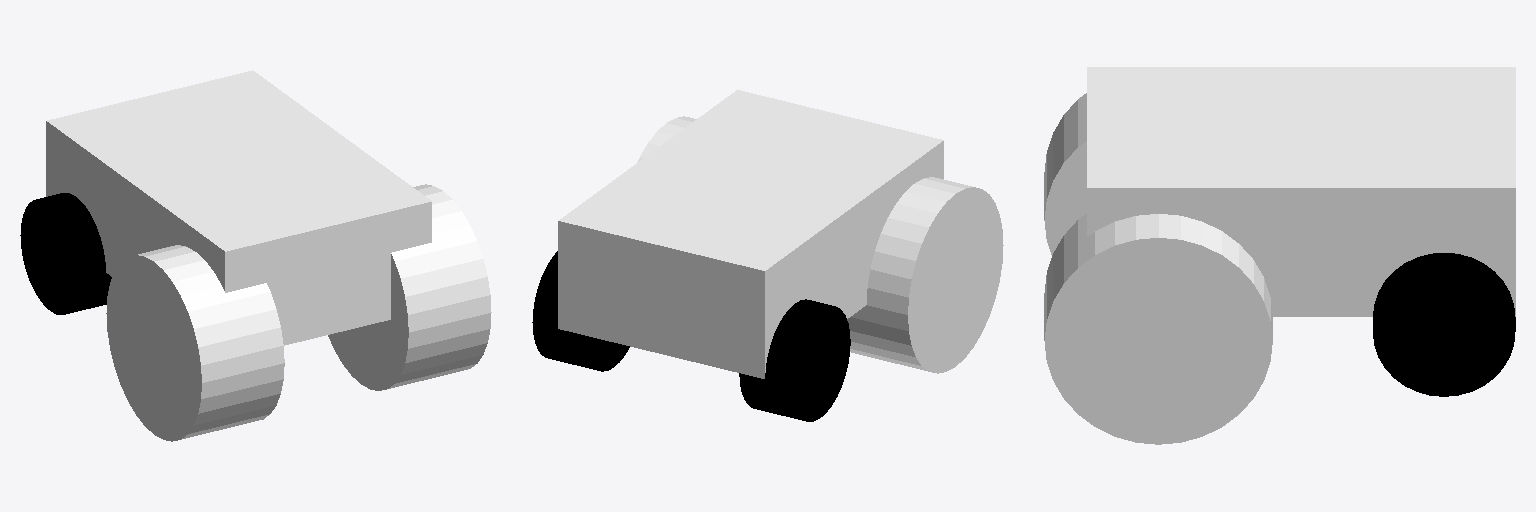
The robot description file, URDF, robot "car":
<!-- 
    需求: 长方体

 -->


<robot name="car">     
    <link name="base_link">
           <visual>
                 <geometry>
                       <box size="0.2 .3 .1"/>
                 </geometry>
            <origin rpy="0 0 0" xyz="0 0 0.05"/>
            <material name="white">
                <color rgba="1 1 1 1"/>
            </material>
           </visual>     
     </link>

     <link name="wheel_1">
           <visual>
                 <geometry>
                       <cylinder length="0.05" radius="0.05"/>
                 </geometry>
            <origin rpy="0 1.57 0" xyz="0.1 0.1 0"/>
               <material name="black">
                <color rgba="0 0 0 1"/>
            </material>
        </visual>
     </link>

     <link name="wheel_2">
           <visual>
                 <geometry>
                       <cylinder length="0.05" radius="0.05"/>
                 </geometry>
            <origin rpy="0 1.57 0" xyz="-0.1 0.1 0"/>
               <material name="black"/>
           </visual>
     </link>

     <link name="wheel_3">
           <visual>
                 <geometry>
                       <cylinder length="0.08" radius="0.08"/>
                 </geometry>
            <origin rpy="0 1.57 0" xyz="0.1 -0.1 0"/>
               <material name="white"/>
           </visual>
     </link>

     <link name="wheel_4">
           <visual>
                 <geometry>
                       <cylinder length="0.08" radius="0.08"/>
                 </geometry>
            <origin rpy="0 1.57 0" xyz="-0.1 -0.1 0"/>
               <material name="white"/>
           </visual>
     </link>
     
     <link name="ball">
           <visual>
                 <geometry>
                 	<mesh filename="[local-path]/URDF2IFC/turtlebot3proj/turtlebot3/turtlebot3_description/meshes/wheels/right_tire.stl" scale="0.01 0.01 0.01"/>
                 </geometry>
            <origin rpy="0 1.57 0" xyz="0 0 0"/>
               <material name="white"/>
           </visual>
     </link>


     <joint name="base_to_wheel1" type="fixed">
           <parent link="base_link"/>
           <child link="wheel_1"/>
           <origin xyz="0 0 0"/>
     </joint>

     <joint name="base_to_wheel2" type="fixed">
           <parent link="base_link"/>
           <child link="wheel_2"/>
           <origin xyz="0 0 0"/>
     </joint>

     <joint name="base_to_wheel3" type="fixed">
           <parent link="base_link"/>
           <child link="wheel_3"/>
           <origin xyz="0 0 0"/>
     </joint>

     <joint name="base_to_wheel4" type="fixed">
           <parent link="base_link"/>
           <child link="wheel_4"/>
           <origin xyz="0 0 0"/>
     </joint>
     
      <joint name="base_to_ball" type="fixed">
           <parent link="base_link"/>
           <child link="ball"/>
           <origin xyz="0 0 0.5"/>
     </joint>
     
     
</robot>

--- What the picture shows (computed from the rendered views, not written in the file) ---
3 views of the same robot in one strip: view 1: azimuth 30°, elevation 25°; view 2: azimuth 150°, elevation 25°; view 3: azimuth 270°, elevation 25° (orthographic).
Robot: car — 6 links, 5 joints (5 fixed); root link base_link; default pose: all joints at 0.
Visible links, largest first — view 1: base_link, wheel_4, wheel_3, wheel_2; view 2: base_link, wheel_4, wheel_2, wheel_1, wheel_3; view 3: base_link, wheel_3, wheel_1, wheel_4.
Boxes of the visible links, x1,y1,x2,y2 form: base_link: [46, 70, 431, 345]; wheel_4: [106, 245, 284, 441]; wheel_3: [328, 184, 491, 390]; wheel_2: [20, 193, 111, 314]; base_link: [558, 90, 943, 378]; wheel_4: [847, 177, 1003, 373]; wheel_2: [739, 299, 850, 421]; wheel_1: [532, 251, 629, 371]; wheel_3: [637, 116, 696, 162]; base_link: [1087, 67, 1515, 316]; wheel_3: [1044, 214, 1272, 444]; wheel_1: [1373, 253, 1515, 396]; wheel_4: [1044, 93, 1086, 254].
Size in the robot's own frame: 0.2801 by 0.33 by 0.18 metres.
Geometry: only primitive shapes (box / cylinder / sphere) drawn; not drawn: 1 mesh visual (reference in a form the renderer does not follow).
